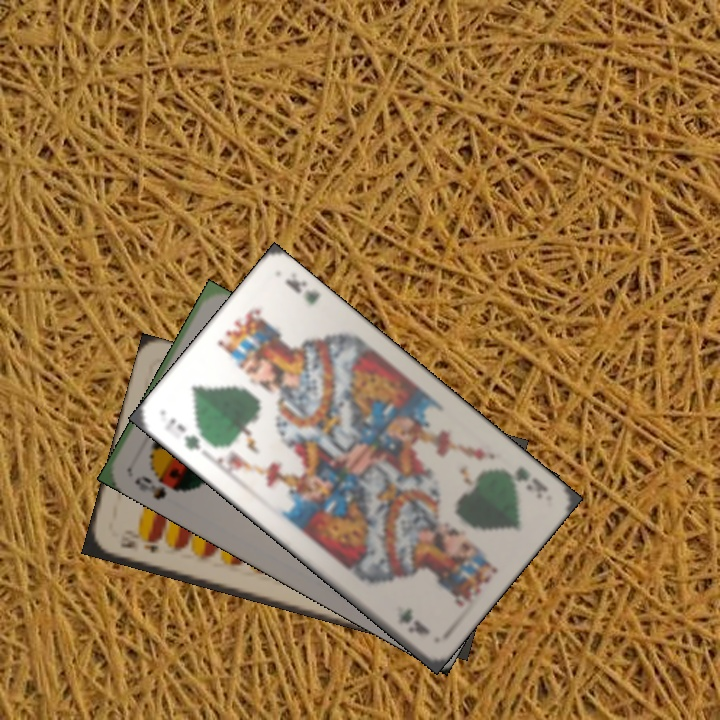E10: (115, 528, 161, 556)
GK: (160, 413, 204, 453), (510, 462, 551, 495)
SO: (130, 471, 169, 502)
